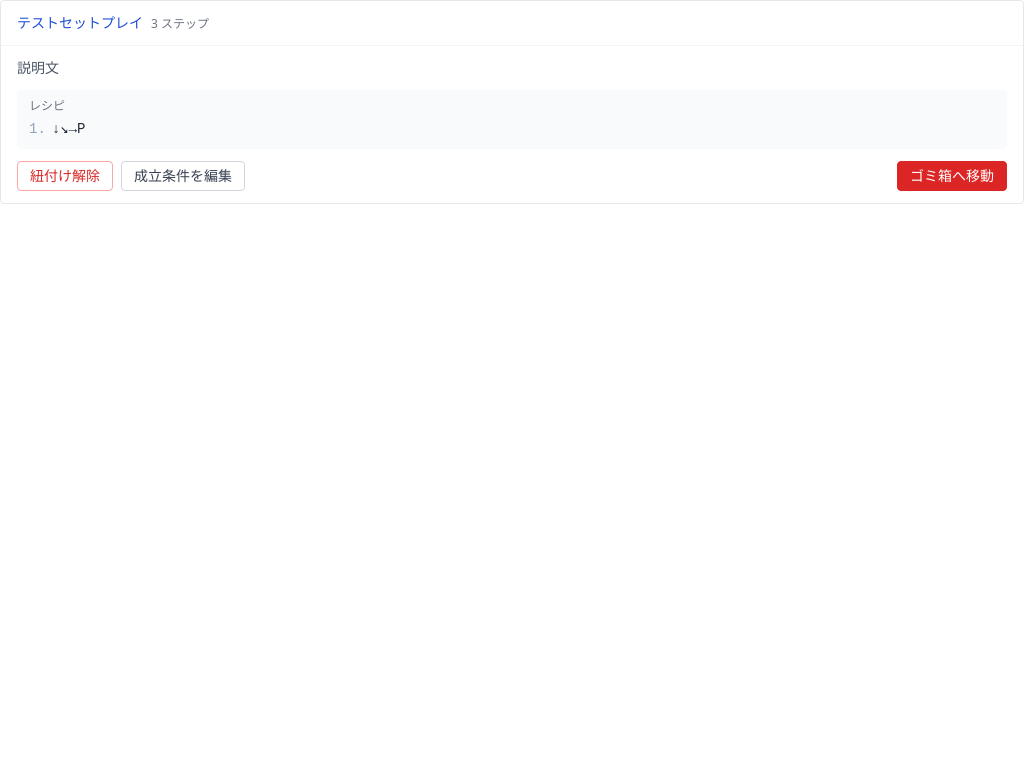
Test case: SetupAccordionItem の成立条件(M19-03) › ★「復元しても戻らない」旨の警告が出る
Click the button with test id "setup-soft-delete": click(952, 176) left=897, top=161, right=1007, bottom=191
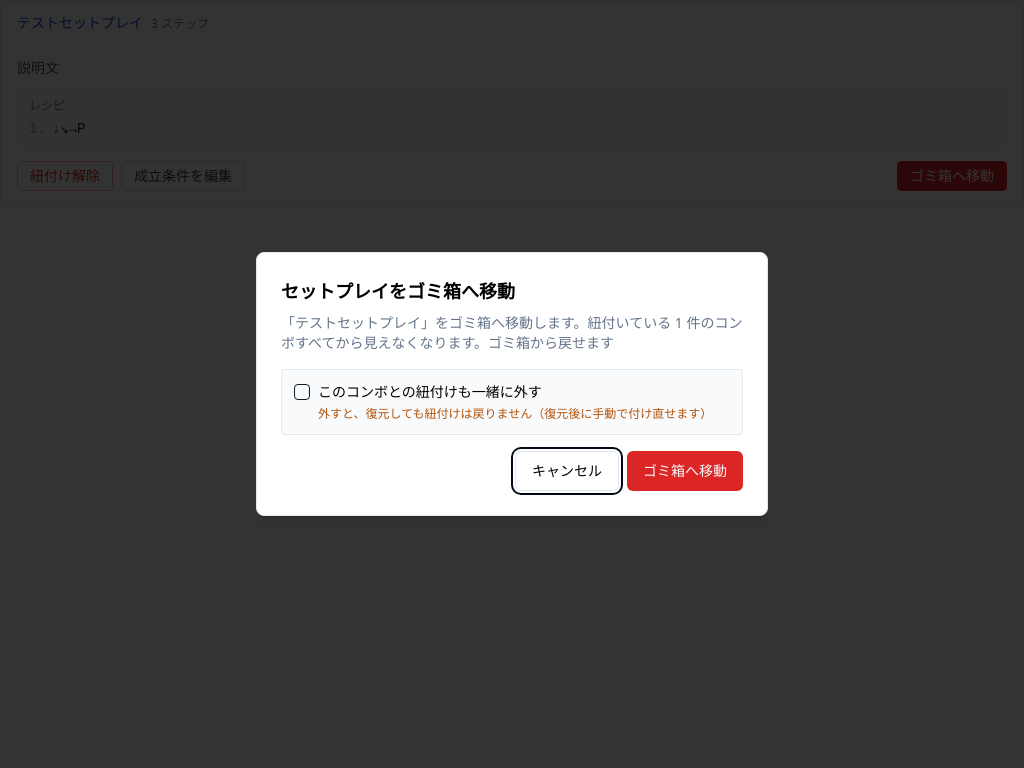
Expected: the label with test id "setup-delete-unlink-also" shows "外すと、復元しても紐付けは戻りません（復元後に手動で付け直せます）", left=318, top=405, right=712, bottom=422
